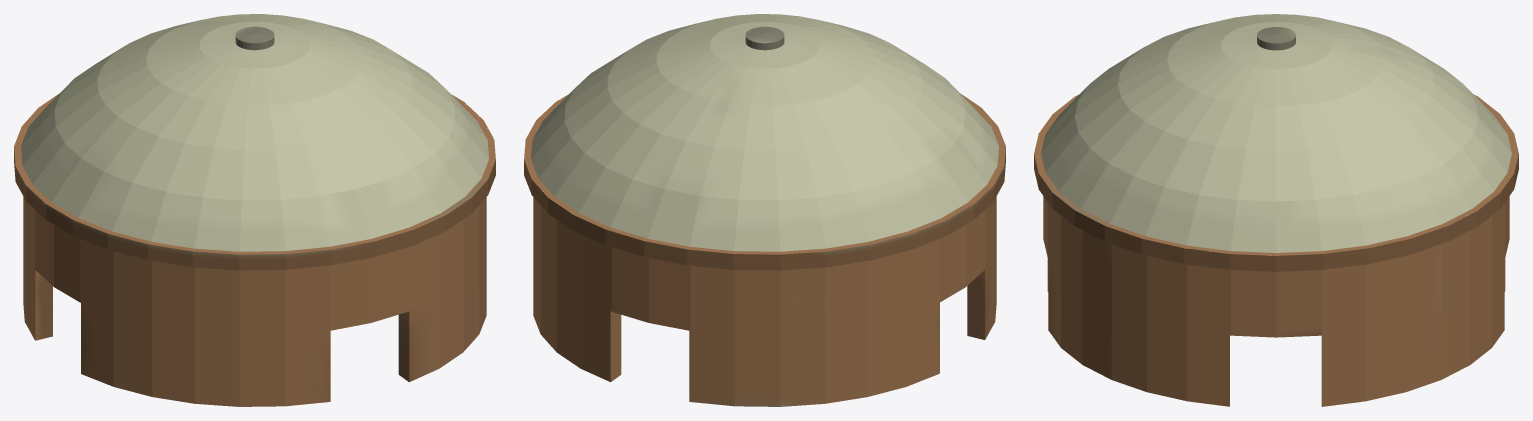
Rendered from Kiosco_prefab.fbx.
3 renders of one model, left to right at view 1: azimuth 30°, elevation 25°; view 2: azimuth 150°, elevation 25°; view 3: azimuth 270°, elevation 25°, orthographic.
Parts seen in each view (by area): view 1: Sphere, Cylinder; view 2: Sphere, Cylinder; view 3: Sphere, Cylinder.
Part boxes in pixels (box(x1,y1,x2,y2)): Sphere: box(21, 14, 488, 251); Cylinder: box(14, 93, 495, 406); Sphere: box(531, 14, 998, 251); Cylinder: box(524, 93, 1005, 406); Sphere: box(1041, 14, 1511, 252); Cylinder: box(1034, 94, 1518, 406).
Bounding box in the file's own units: 2516 × 1585 × 2516.
Materials: 2 (2 with a texture image).
